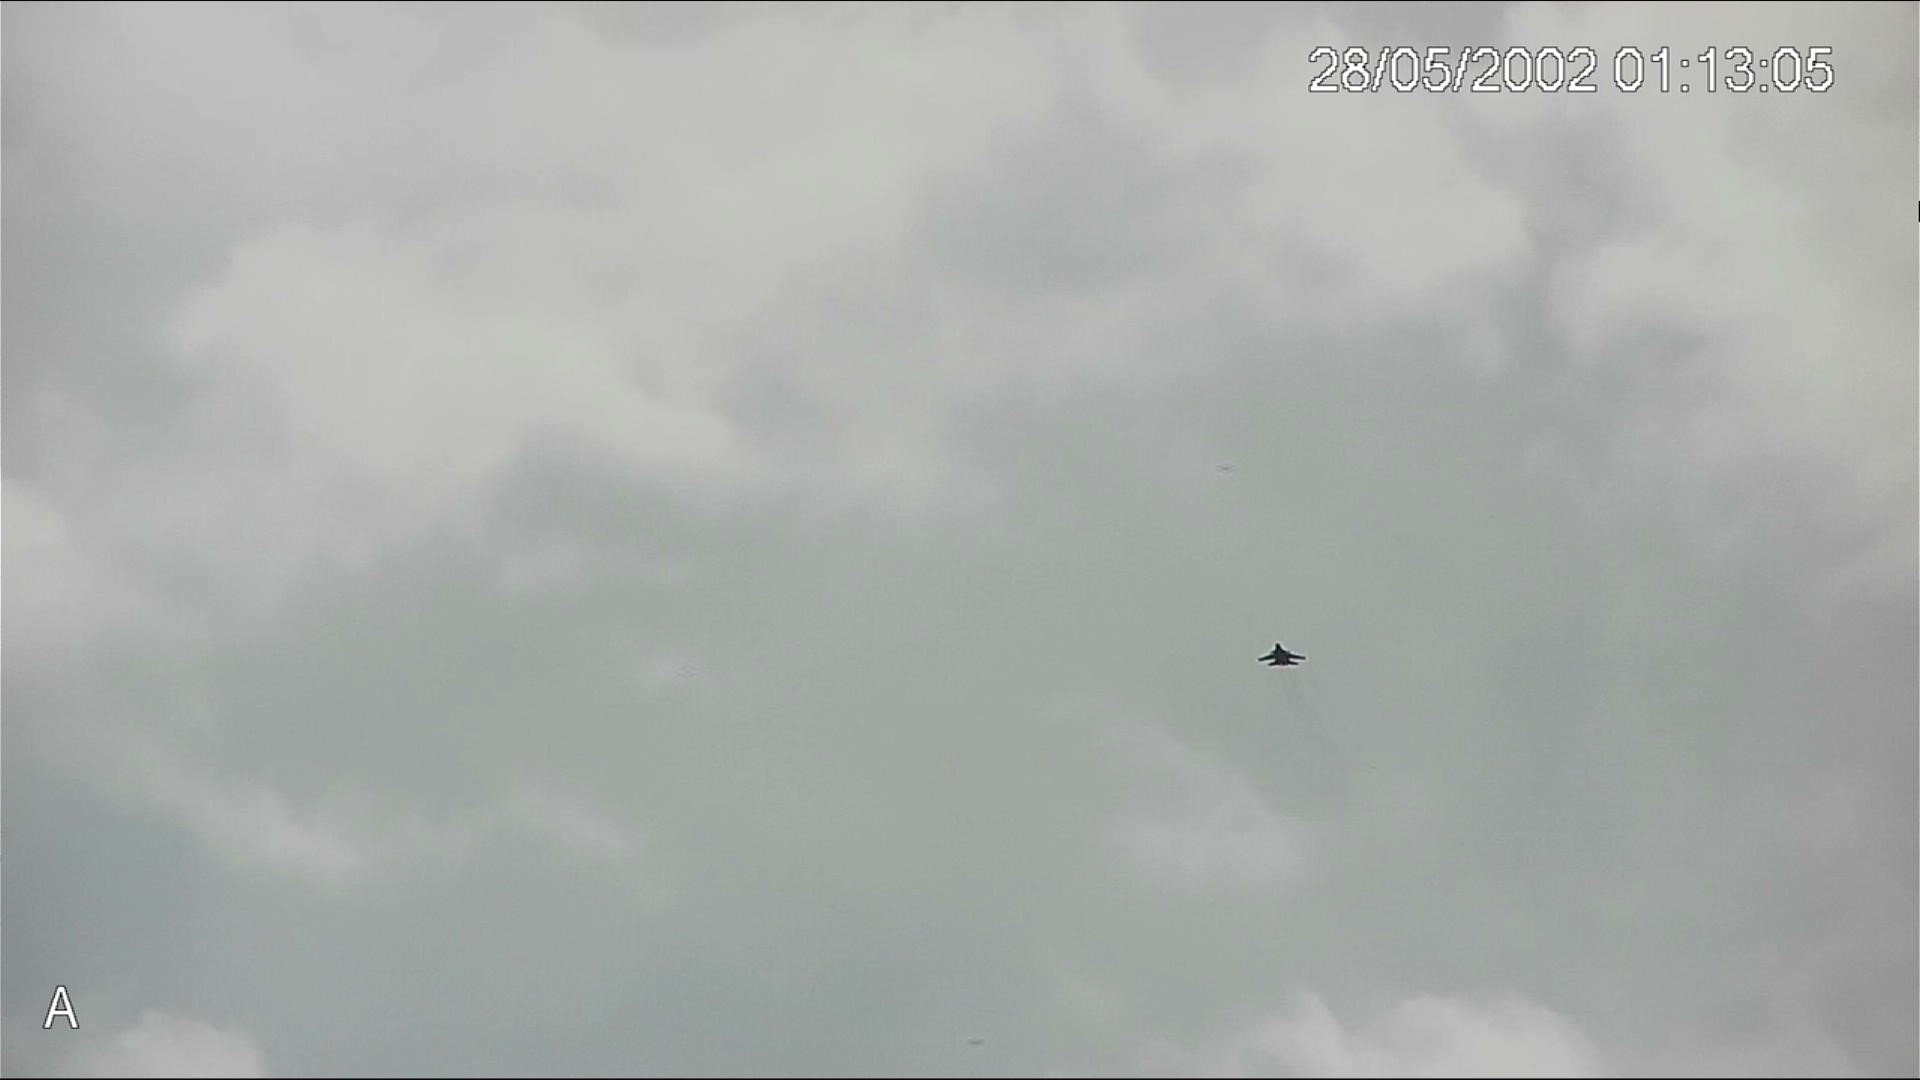SU_30: (1255, 641, 1307, 674)
